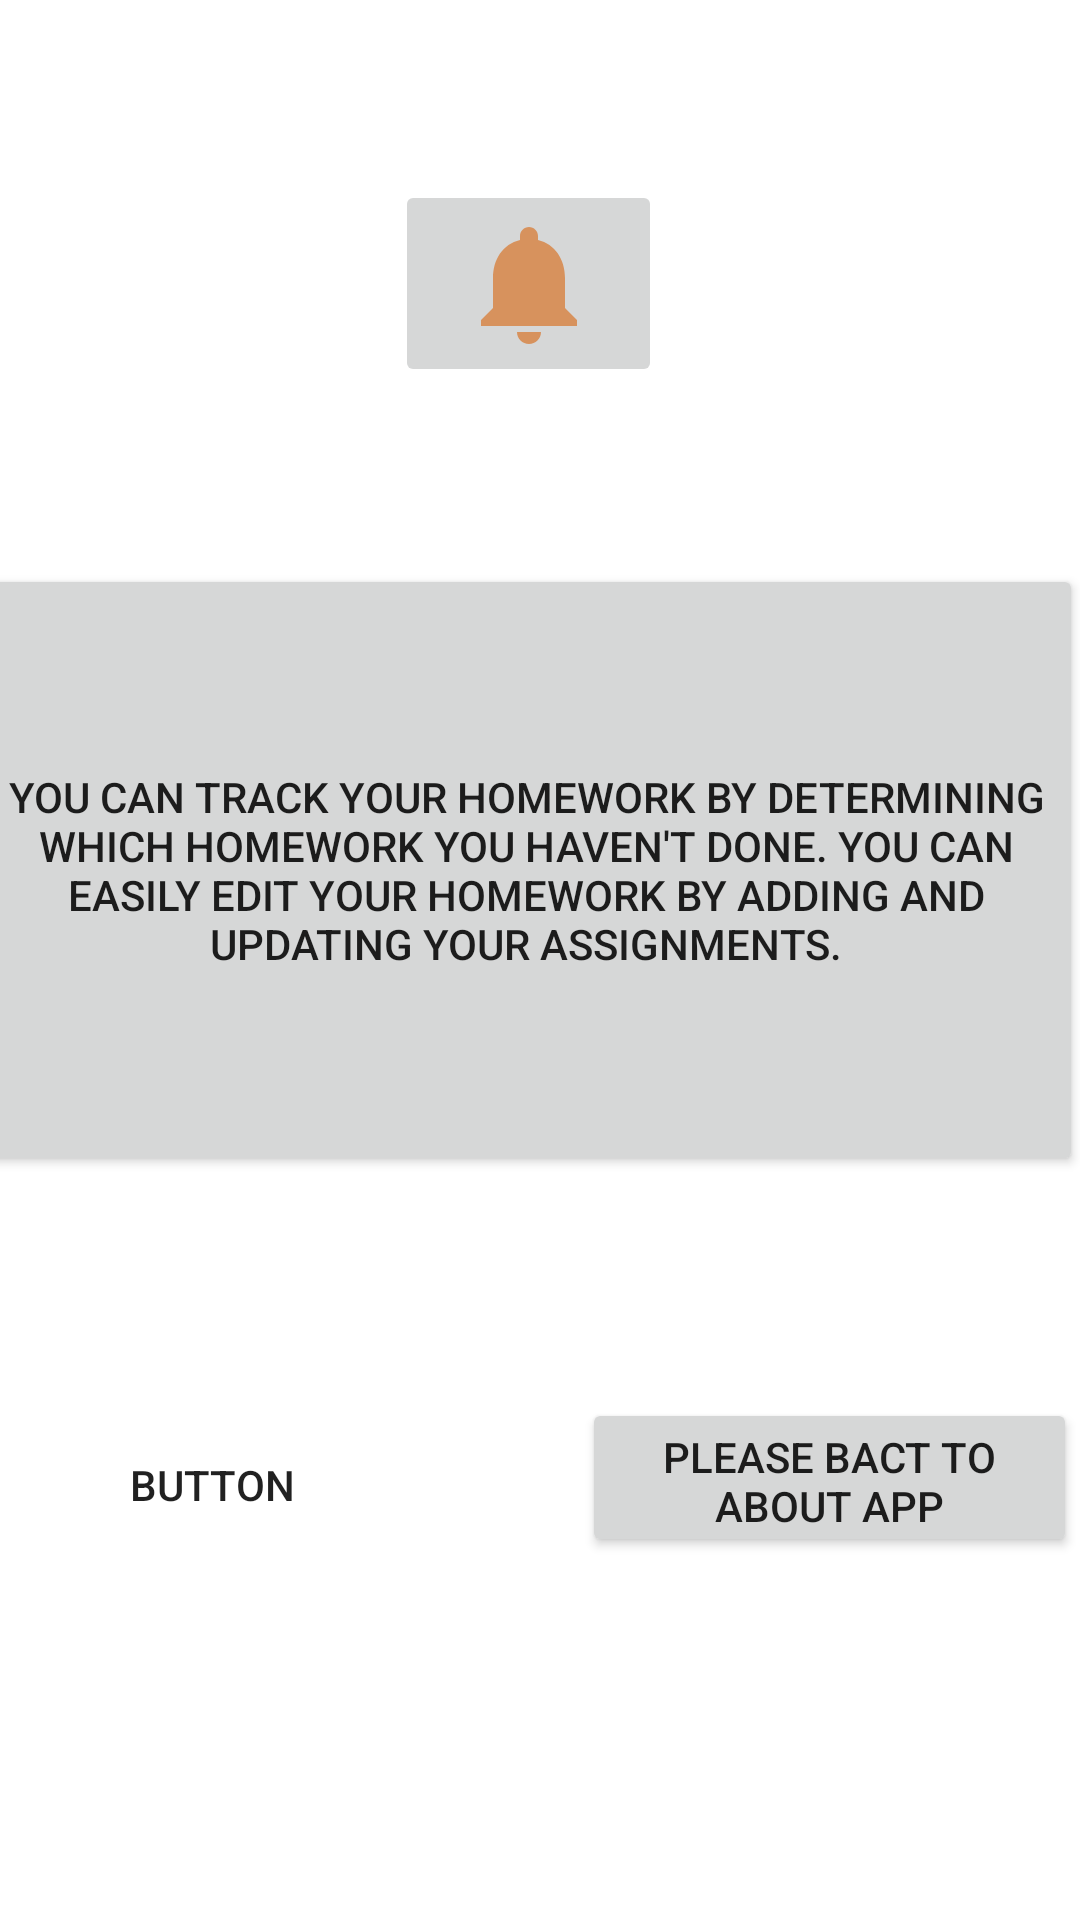

Icon bounding boxes for this 1080*1920 phone screenshot, format box=[x1, y1, x2, y2]:
notifications: box=[407, 198, 650, 369]
